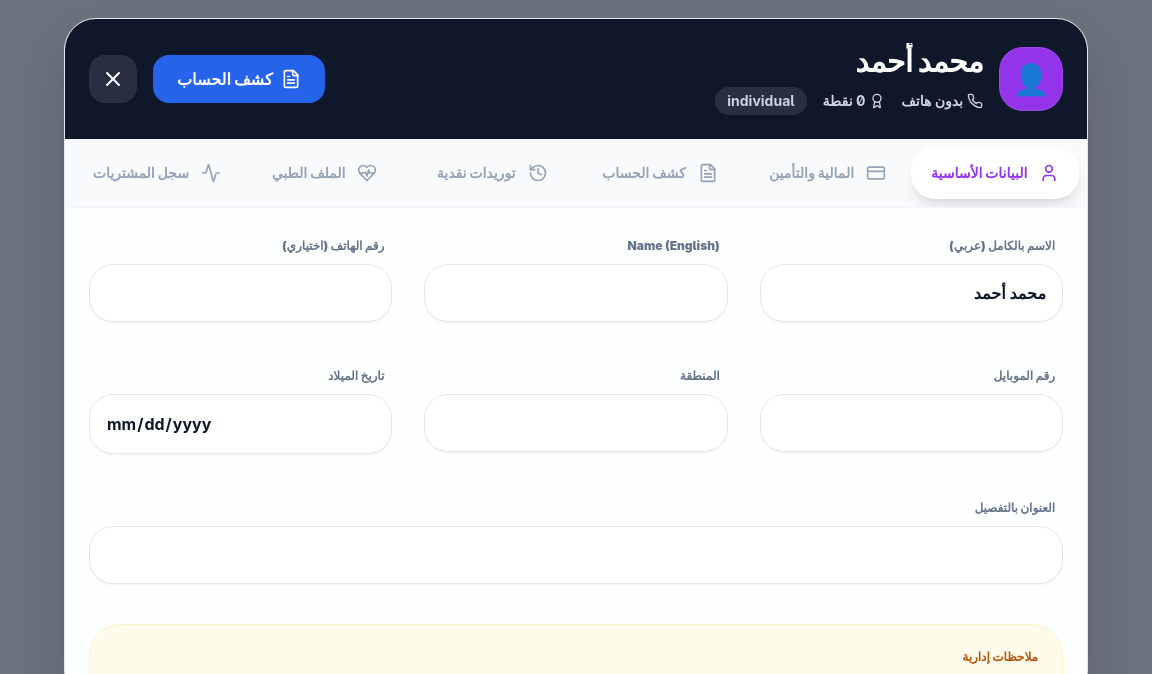
Test: keeps wallet as a valid default payment method in the patient profile editor
Expected: the field showing "محمد أحمد" is shown, x1=760 y1=264 x2=1063 y2=322
Click the button "المالية والتأمين": [828, 173] box x1=744 y1=147 x2=911 y2=199
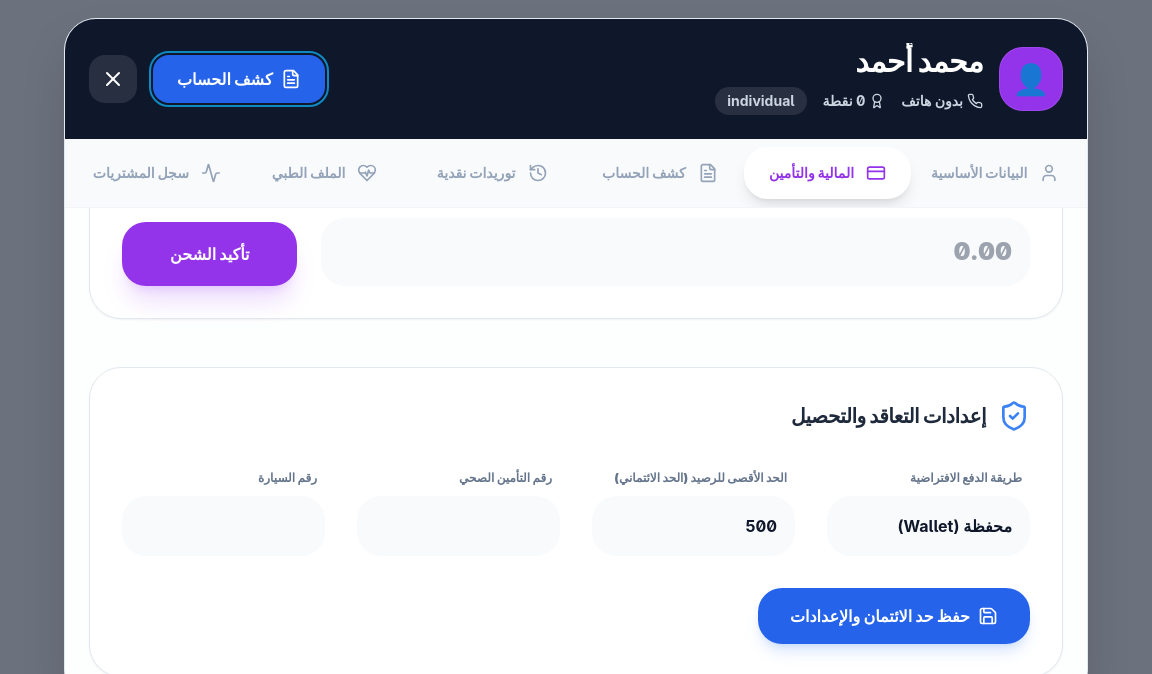
Now the dropdown labelled "طريقة الدفع الافتراضية" shows "محفظة (Wallet)", box x1=827 y1=496 x2=1030 y2=556
